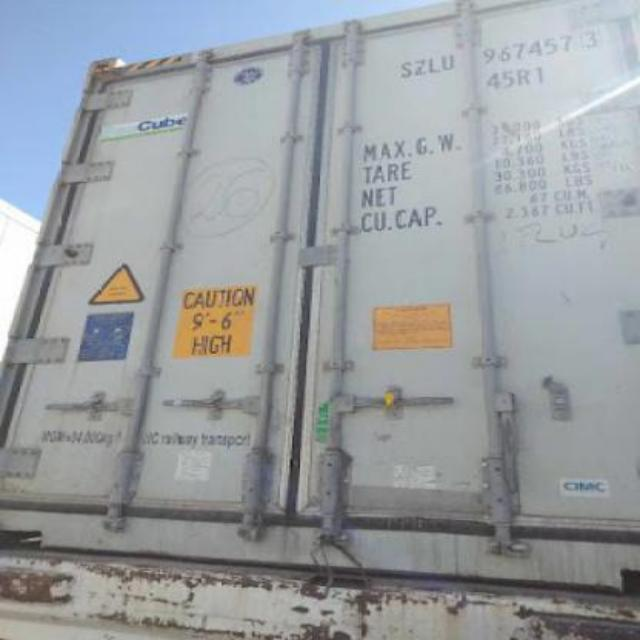3: (578, 30, 600, 48)
4: (528, 39, 544, 57)
5: (544, 37, 558, 57)
6: (496, 44, 512, 64)
7: (512, 42, 526, 62), (560, 34, 574, 54)
9: (480, 47, 496, 67)
L: (428, 55, 442, 75)
S: (400, 60, 412, 80)
U: (440, 52, 458, 72)
Z: (414, 57, 428, 77)
